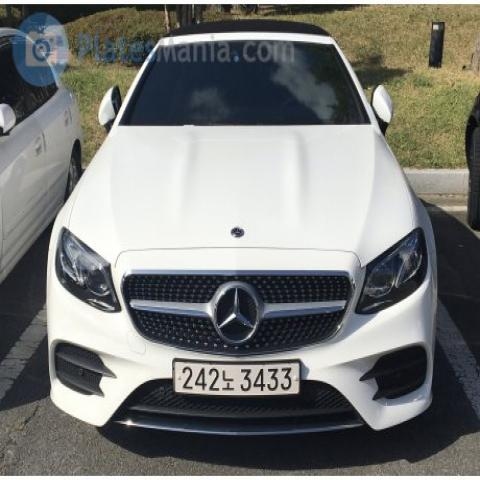LP: (171, 354, 305, 404)
